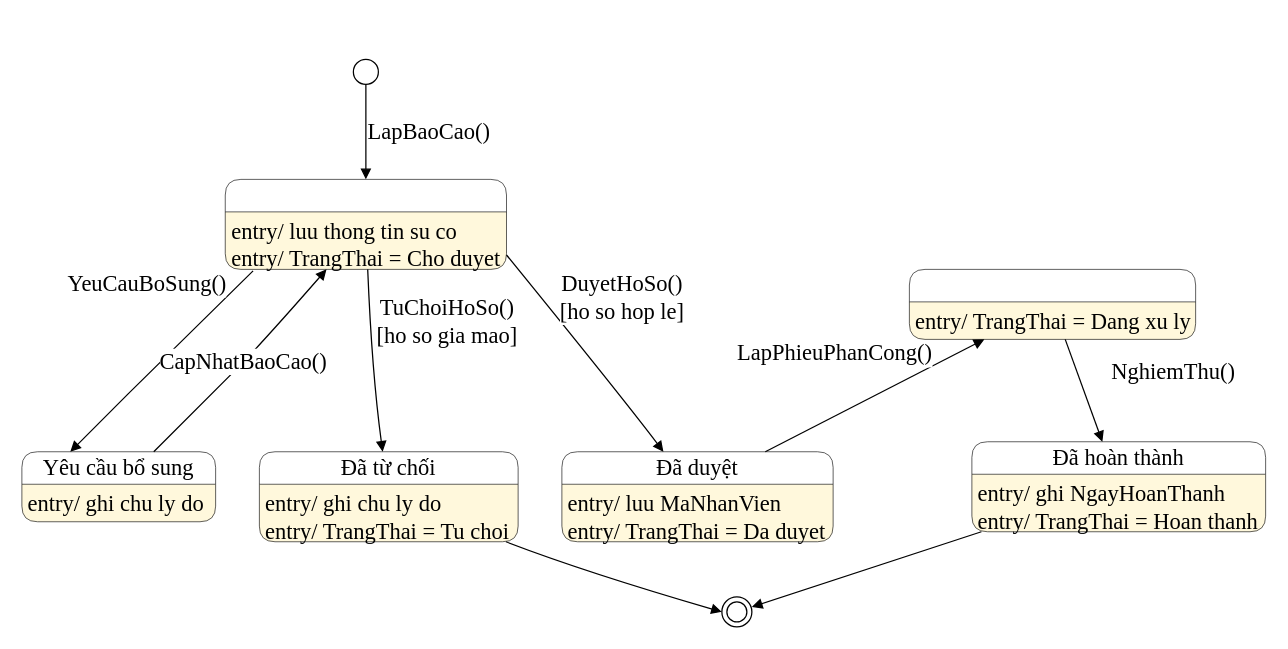
Image size: 1288x649. Some labels were removed from this diagram. The shapes that lost their labels are listed below. From the top down, each one's box as (x1, y1, x2, y2) in pixels, then its label:
(224, 178, 506, 269): Chờ duyệt
(908, 268, 1195, 339): Đang xử lý
